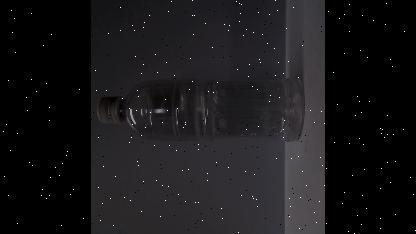Plastic Bottle: (97, 77, 304, 141)
